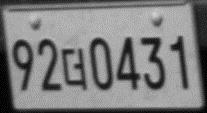0: (87, 36, 114, 91)
1: (164, 34, 197, 91)
2: (36, 38, 62, 92)
3: (140, 36, 167, 90)
4: (115, 36, 141, 91)
9: (11, 37, 35, 91)
더: (60, 47, 88, 91)
